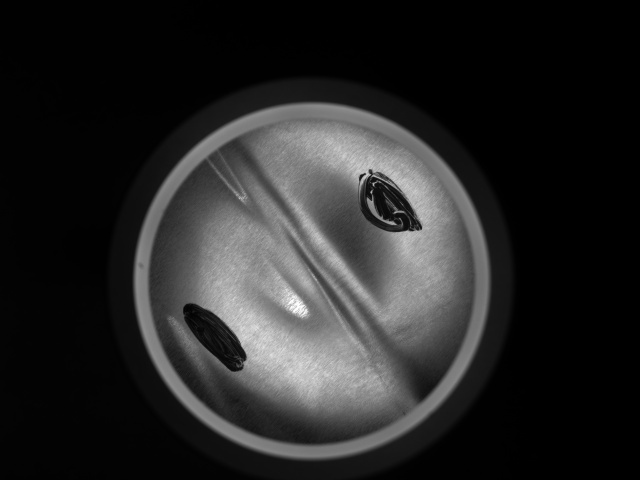zang_wu: (180, 300, 258, 373), (352, 167, 427, 236)
zhe_zhou: (191, 147, 429, 413)
